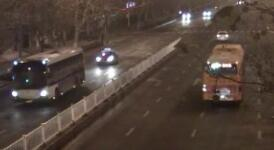bus: (5, 47, 88, 106), (201, 37, 246, 107)
car: (94, 46, 118, 67), (213, 28, 230, 42), (178, 8, 194, 22), (200, 5, 213, 20)
